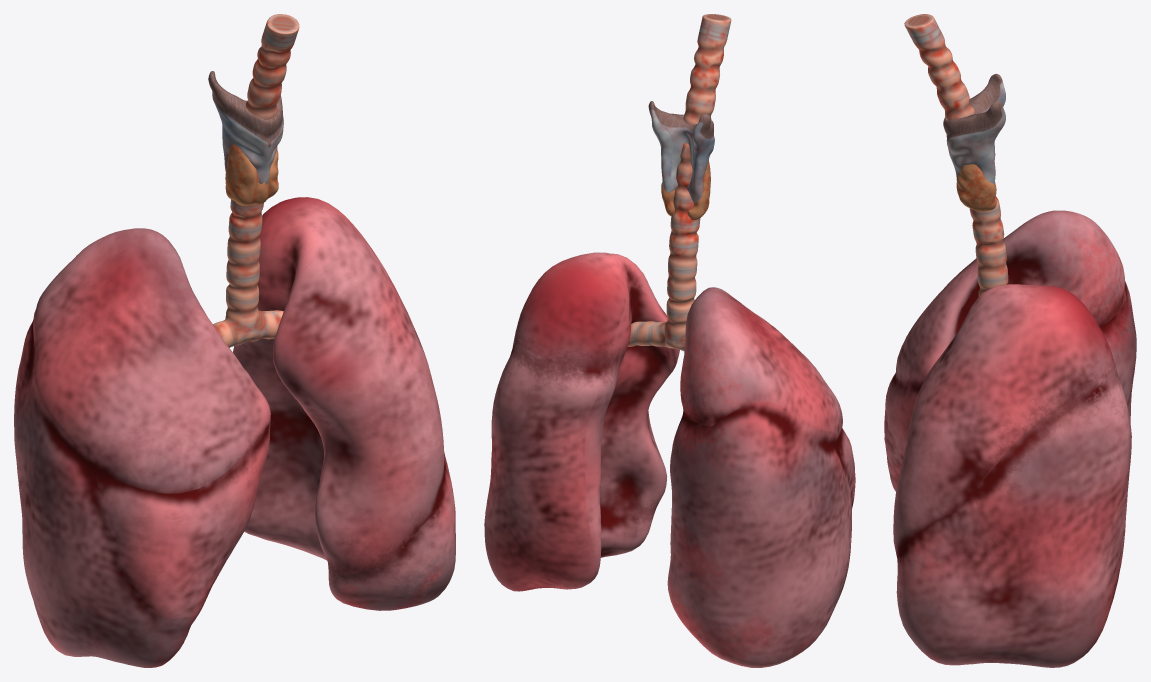
Rendered from Lungs With Texture.fbx.
The picture shows the model from 3 angles, left to right: view 1: azimuth 30°, elevation 25°; view 2: azimuth 150°, elevation 25°; view 3: azimuth 270°, elevation 25°; orthographic projection. The views are drawn at different scales.
Visible parts, largest first — view 1: thairoid01:low_part02_Group6344:Group24638, thairoid01:low_part01_Group6344:Group18522; view 2: thairoid01:low_part02_Group6344:Group24638, thairoid01:low_part01_Group6344:Group18522; view 3: thairoid01:low_part02_Group6344:Group24638, thairoid01:low_part01_Group6344:Group18522.
Boxes of the visible parts, bbox=[...] form: thairoid01:low_part02_Group6344:Group24638: bbox=[14, 197, 455, 667]; thairoid01:low_part01_Group6344:Group18522: bbox=[208, 14, 299, 347]; thairoid01:low_part02_Group6344:Group24638: bbox=[484, 252, 855, 667]; thairoid01:low_part01_Group6344:Group18522: bbox=[627, 14, 731, 351]; thairoid01:low_part02_Group6344:Group24638: bbox=[884, 210, 1136, 667]; thairoid01:low_part01_Group6344:Group18522: bbox=[904, 14, 1008, 296].
Bounding box in the file's own units: 263 × 434 × 167.
2 materials, 2 textured.
